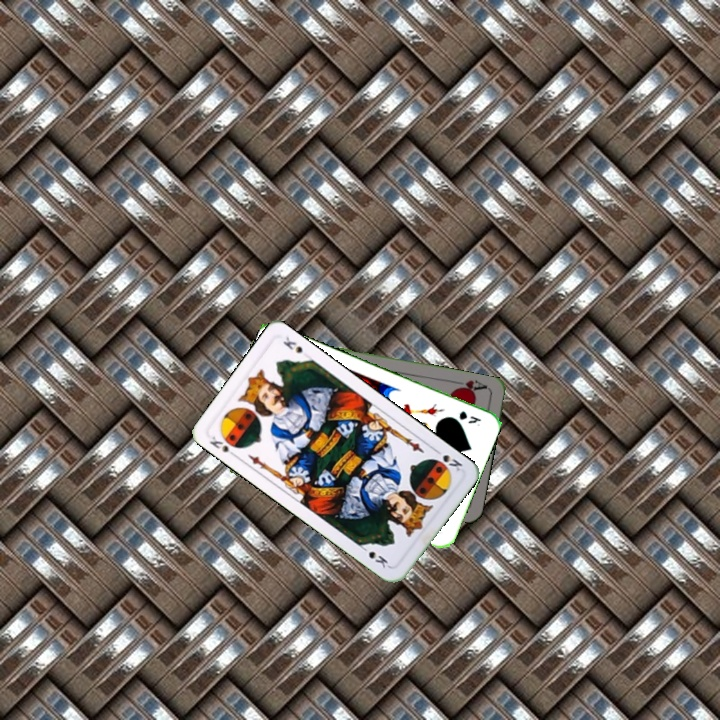GK: (455, 407, 483, 426)
HA: (450, 376, 490, 396)
SK: (430, 444, 465, 475), (205, 432, 240, 460)
